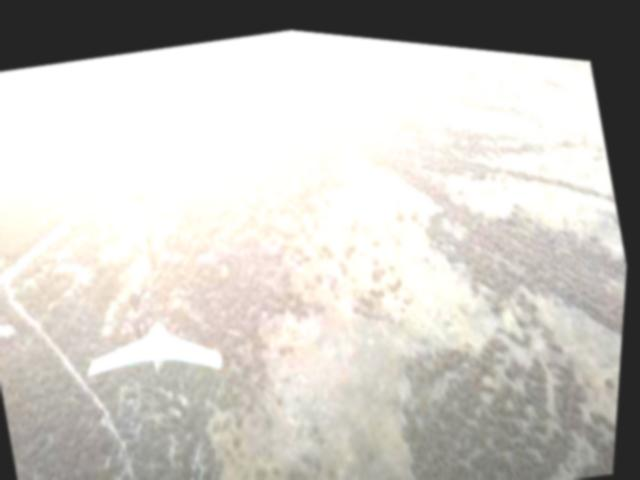iha: (81, 292, 236, 395)
